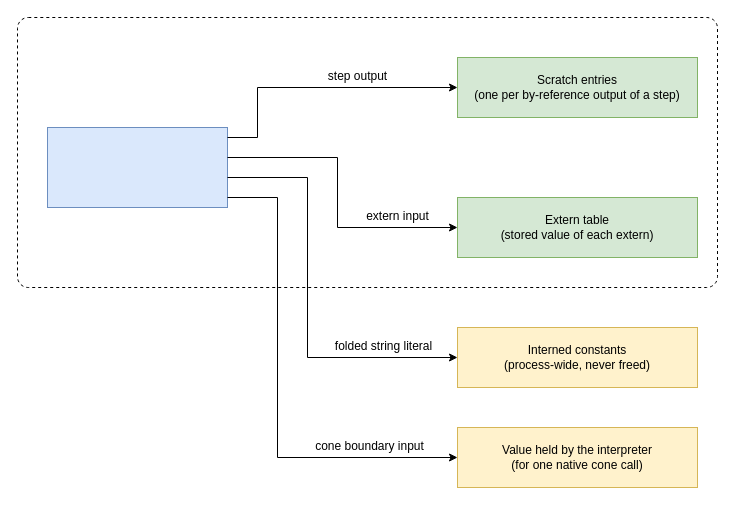
Image size: 735x505. Some labels were removed from this diagram. The shapes that lost their labels are listed below. From the top down, each one's box as (x1, y1, x2, y2) in pixels, then its label:
(46, 126, 228, 208): Slot buffer (pointer, length) pairs
(16, 16, 718, 288): Kernel state (owned by one fiber)
